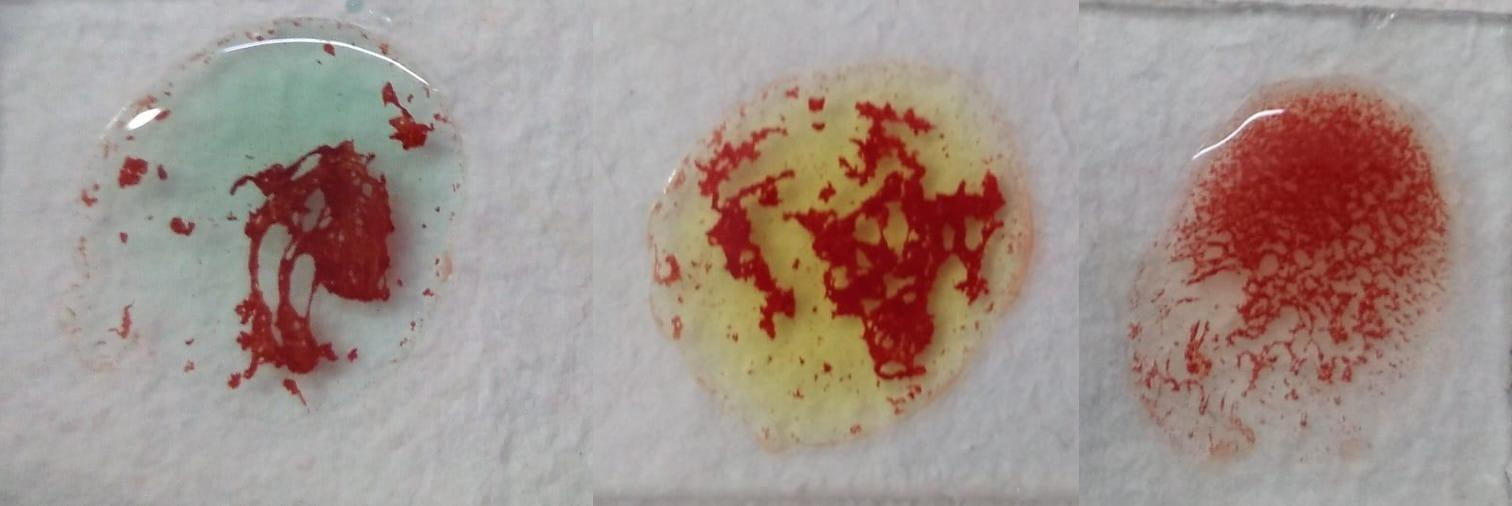A: (99, 15, 470, 404)
B: (646, 75, 1016, 423)
D: (1137, 87, 1450, 443)
